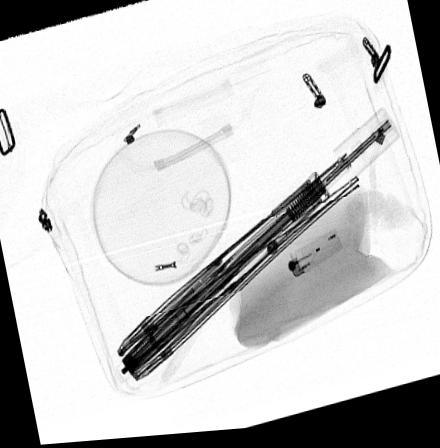Lighter: (287, 233, 342, 283)
